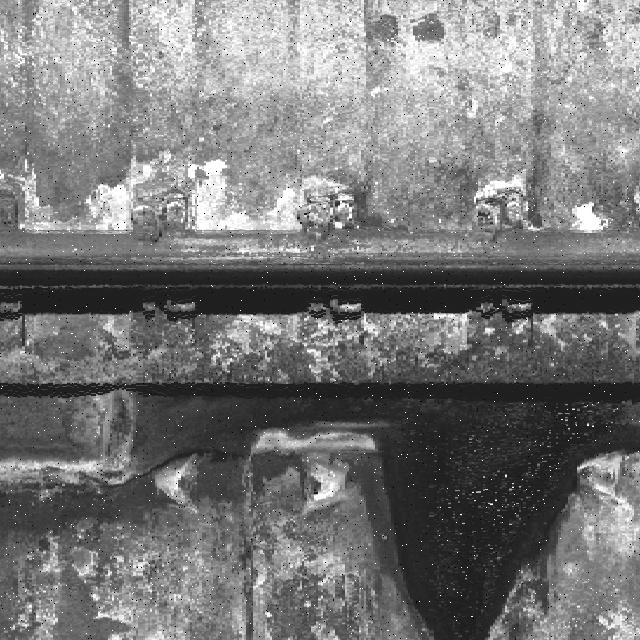leakage: (316, 389, 640, 640)
